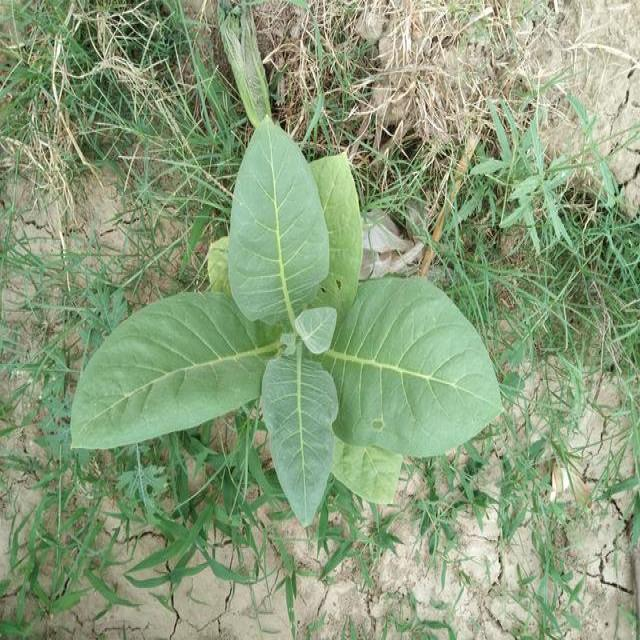crop: (63, 115, 509, 530)
